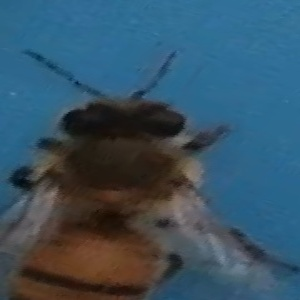bee: (3, 47, 300, 300)
